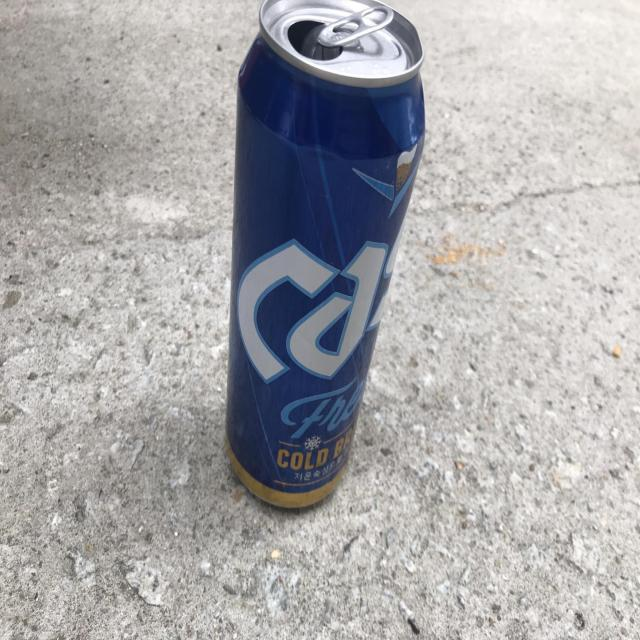can: (226, 0, 425, 508)
